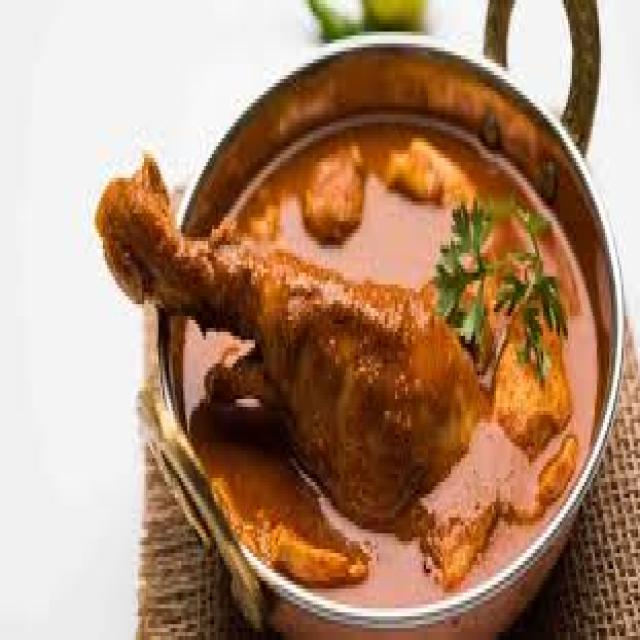Frango: (84, 87, 601, 600)
